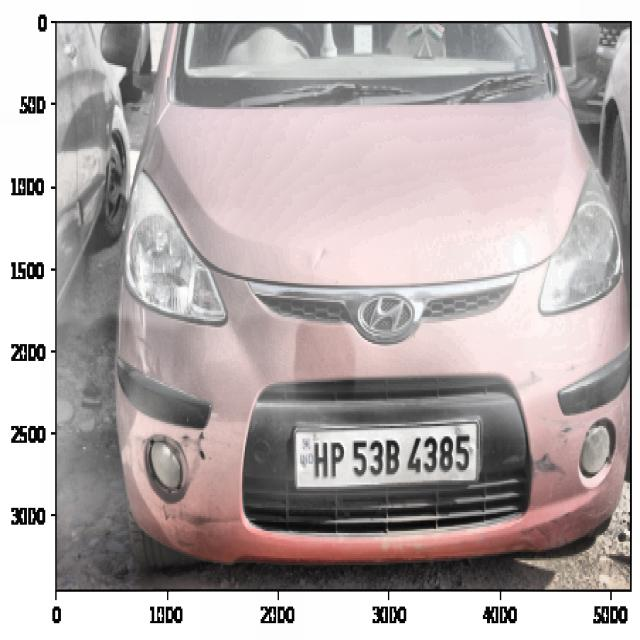license_plate: (305, 430, 477, 484)
